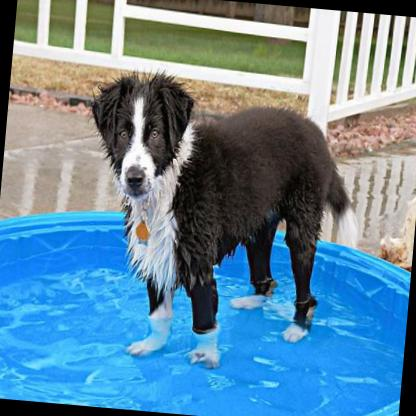Border_collie: (66, 64, 370, 381)
